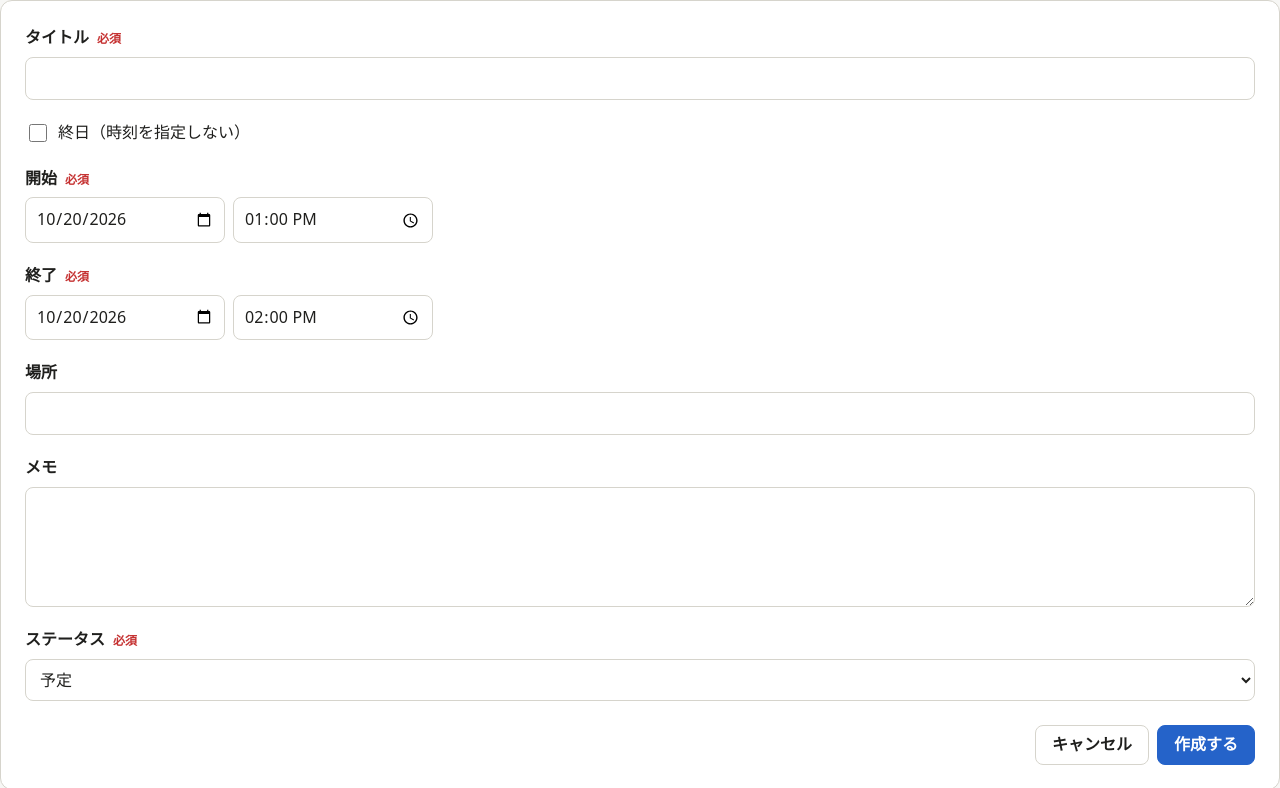
it: EventForm › 入力の誤りは送信せずに項目の下に出す
Replace the text in the time field named "終了時刻" with "12:00" at (333, 317), box [233,295,433,340]
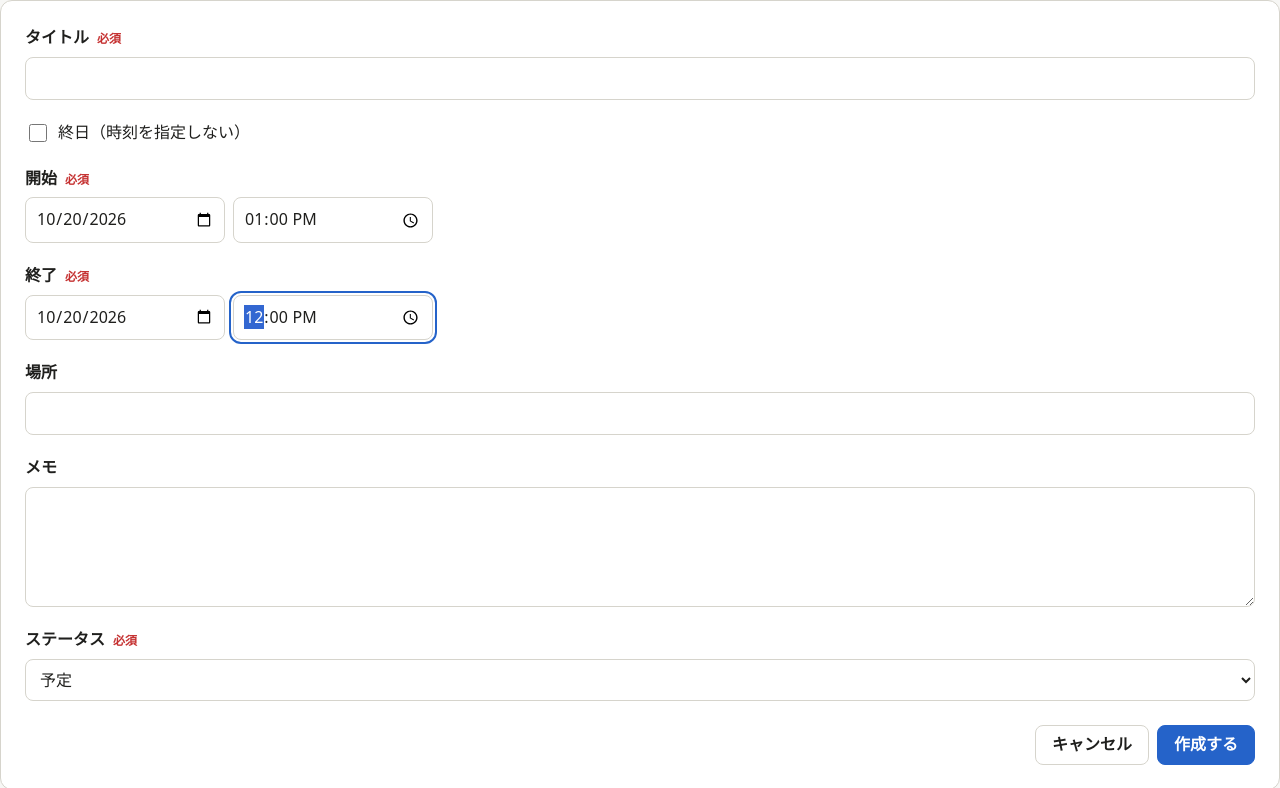
Click the button "作成する" at (1206, 745), box [1157,725,1255,765]
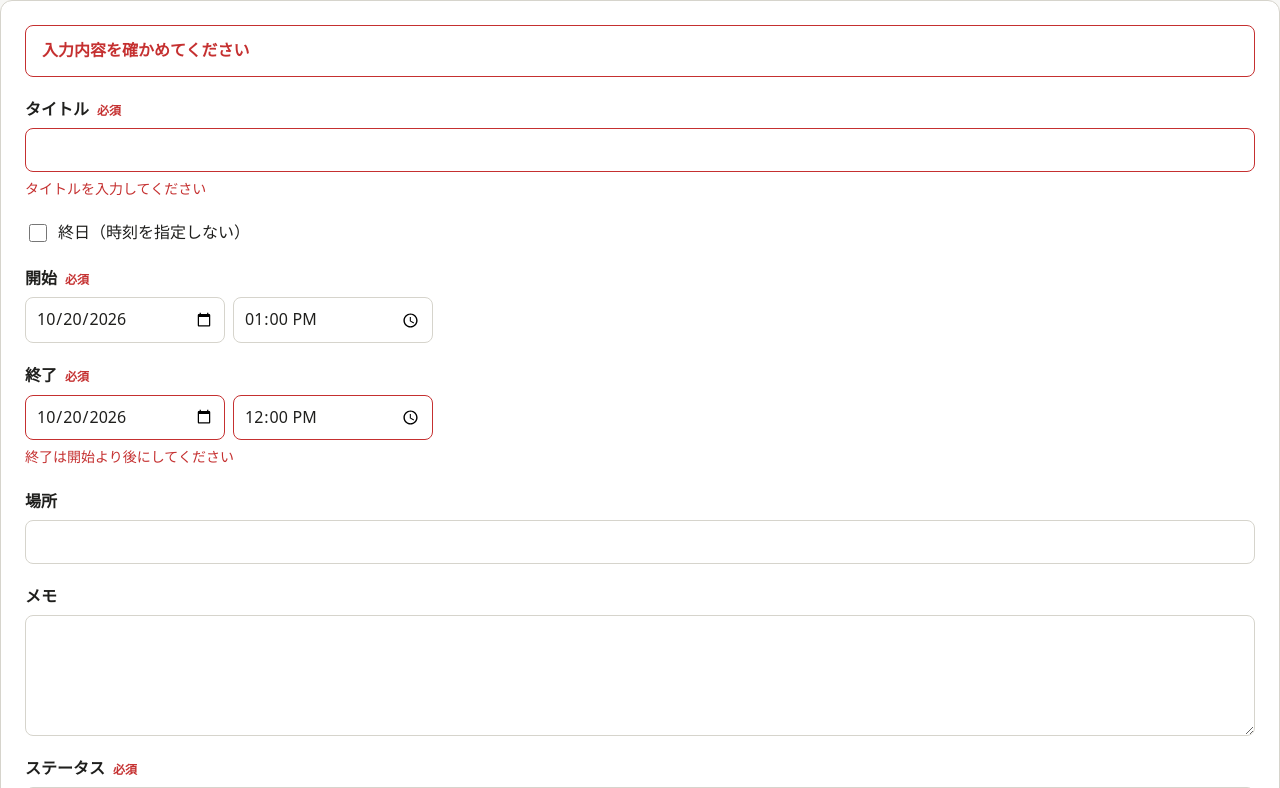
Expected: the message reads "入力内容を確かめてください", [42,39,250,61]
